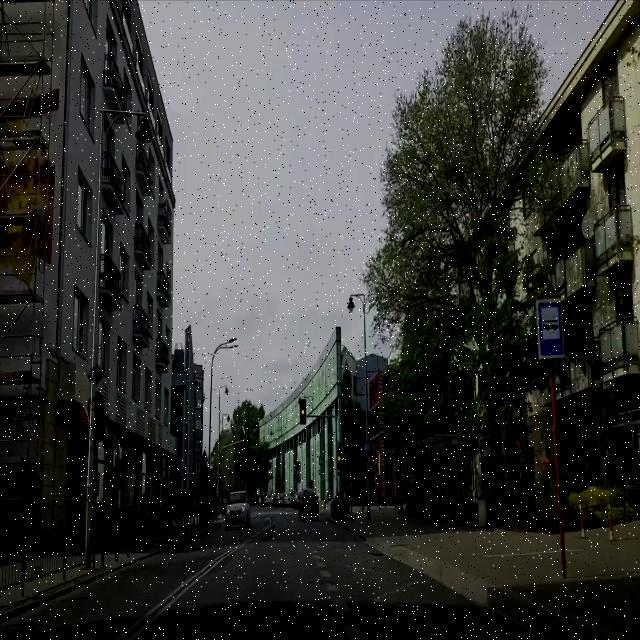Droga z pierwszenstwem: (344, 438, 348, 448)
Przejscie dla pieszych: (344, 448, 349, 460)
